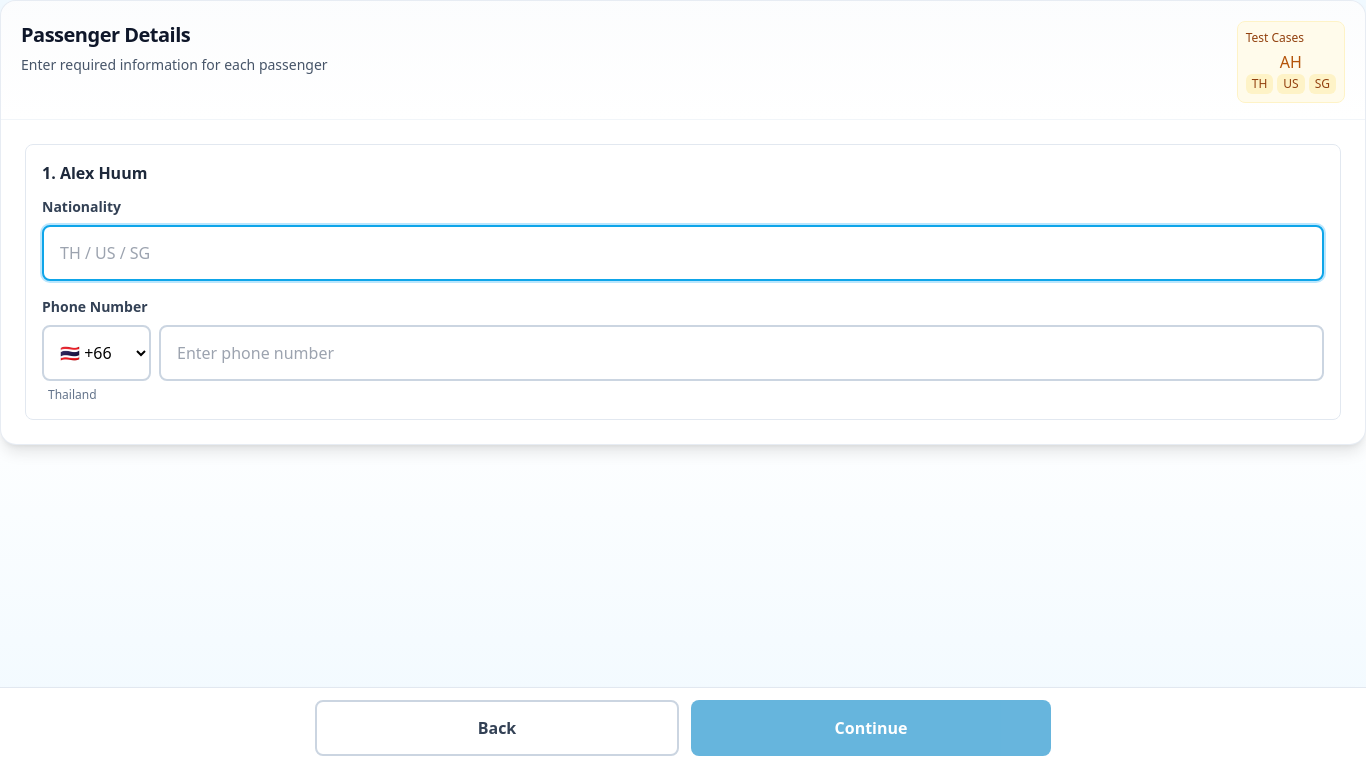
PassengerDetails › Phone Number Validation › should show error when phone is empty and field is blurred
Click the field with placeholder "Enter phone number" at (742, 353), box [159,325,1324,381]
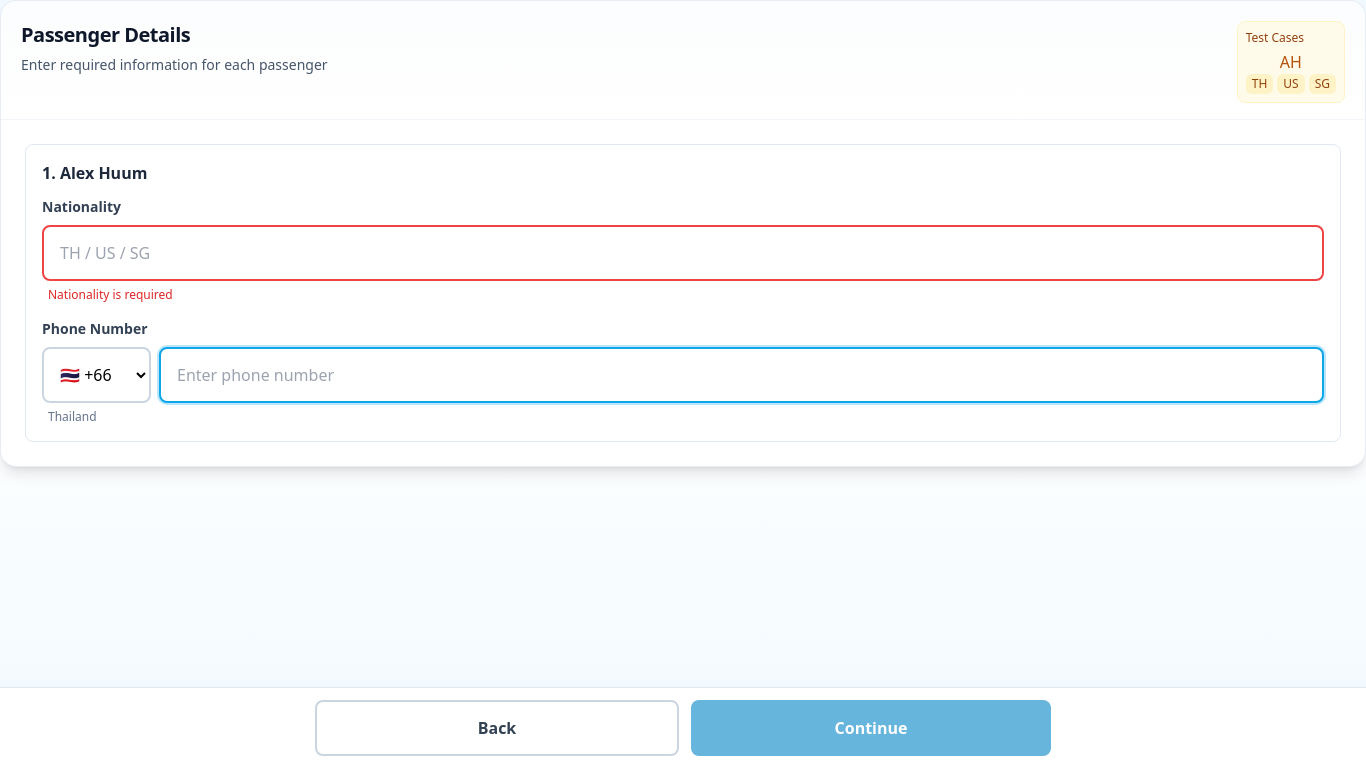
Press Tab
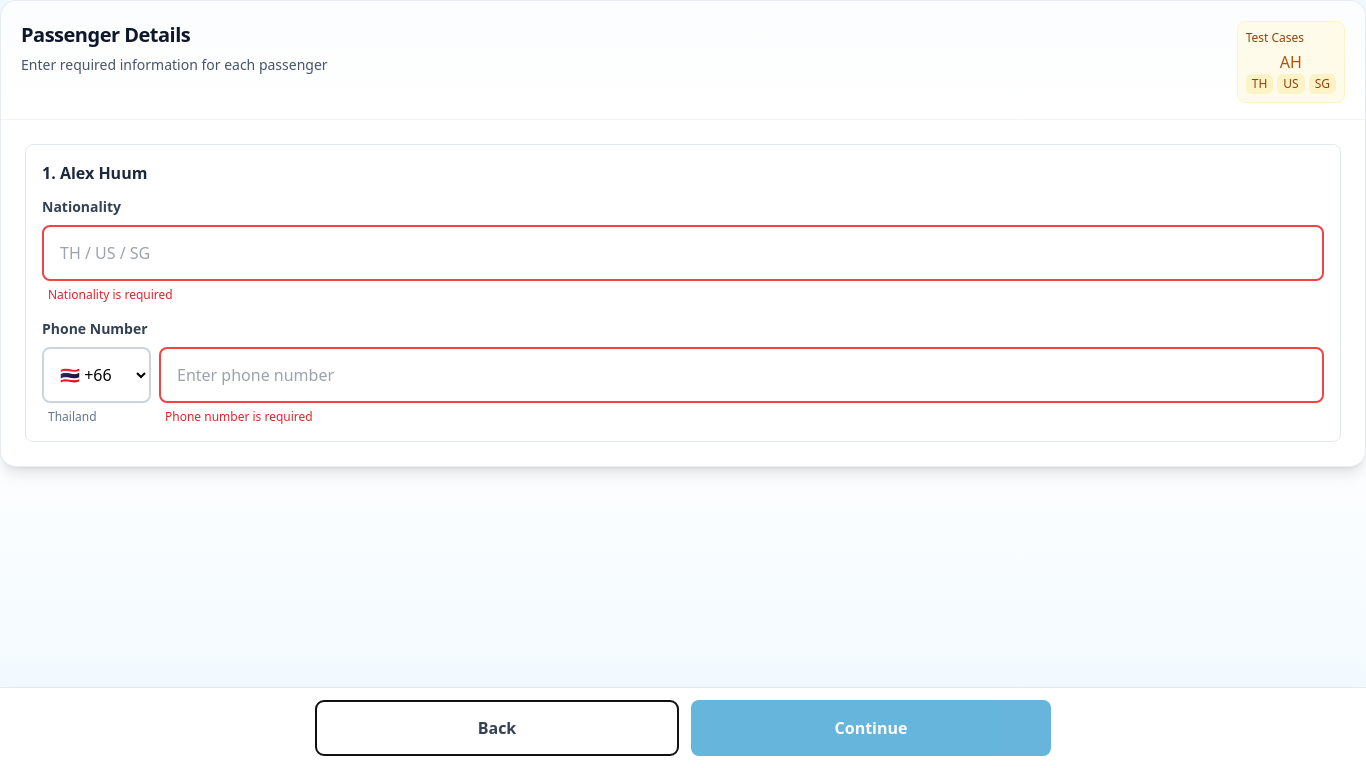
Expected: the text "Phone number is required" is shown, [165,408,313,425]
